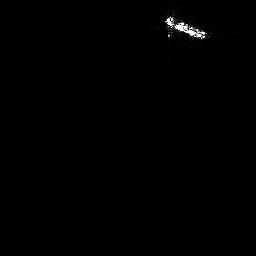ship: (161, 10, 211, 43)
